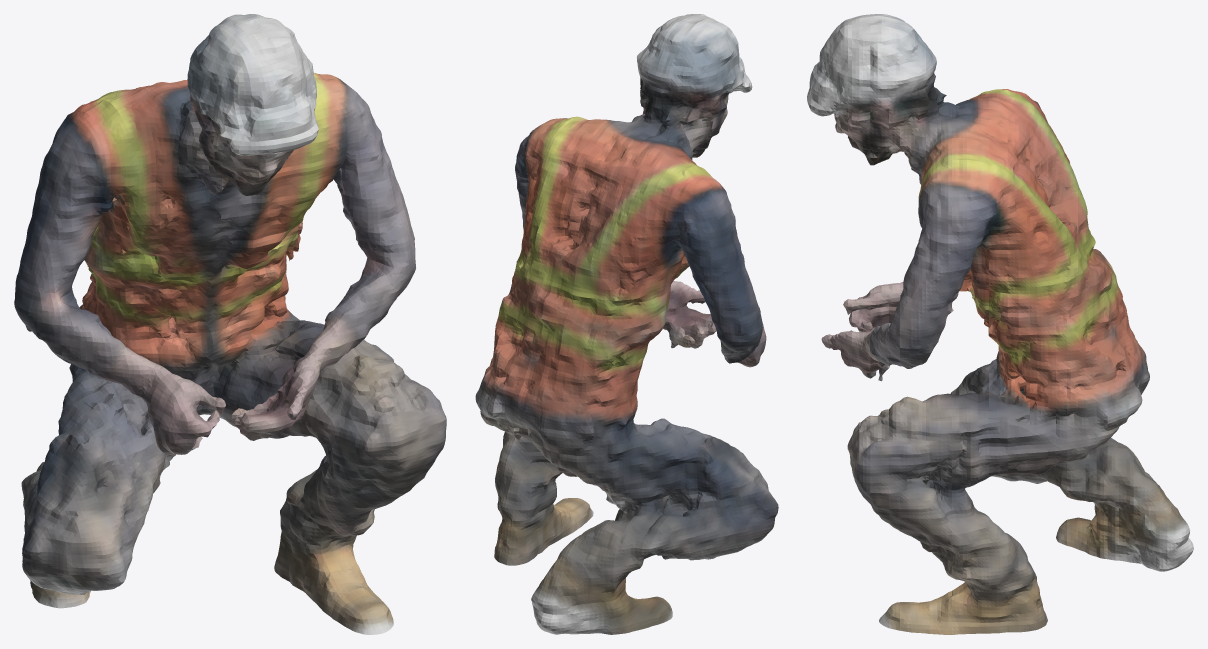
Rendered from standup_1.glb.
3 renders of one model, left to right at view 1: azimuth 30°, elevation 25°; view 2: azimuth 150°, elevation 25°; view 3: azimuth 270°, elevation 25°, orthographic. The views are drawn at different scales.
Parts seen in each view (by area): view 1: world; view 2: world; view 3: world.
Part boxes in pixels (x1,y1,x2,y2): world: (14,14,446,634); world: (475,14,778,634); world: (807,14,1193,634).
Bounding box in the file's own units: 0.7411 × 1.28 × 0.818.
